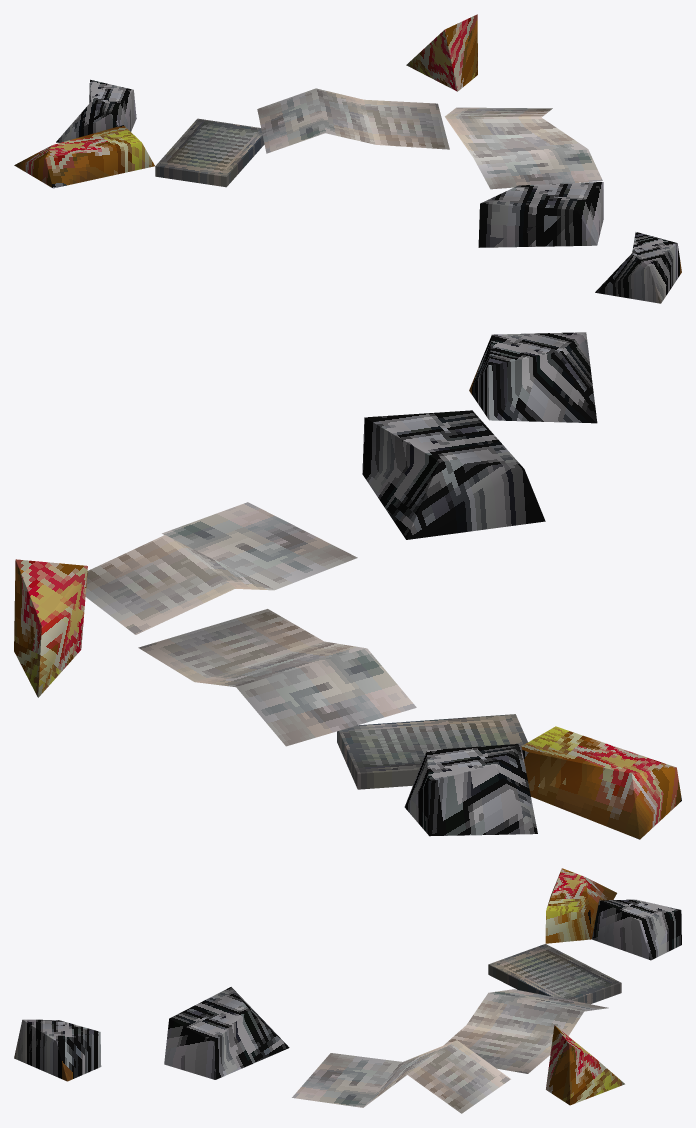
Rendered from M2_Garbage03.glb.
3 renders of one model, top to bottom at view 1: azimuth 30°, elevation 25°; view 2: azimuth 150°, elevation 25°; view 3: azimuth 270°, elevation 25°, orthographic. The views are drawn at different scales.
Visible parts, largest first — view 1: M2_GARBAGE03; view 2: M2_GARBAGE03; view 3: M2_GARBAGE03.
Part boxes in pixels (x1,y1,x2,y2): M2_GARBAGE03: (14,14,681,303); M2_GARBAGE03: (14,332,681,839); M2_GARBAGE03: (14,868,681,1113).
Bounding box in the file's own units: 1.89 × 0.283 × 2.4.
Materials: 1 (1 with a texture image).
